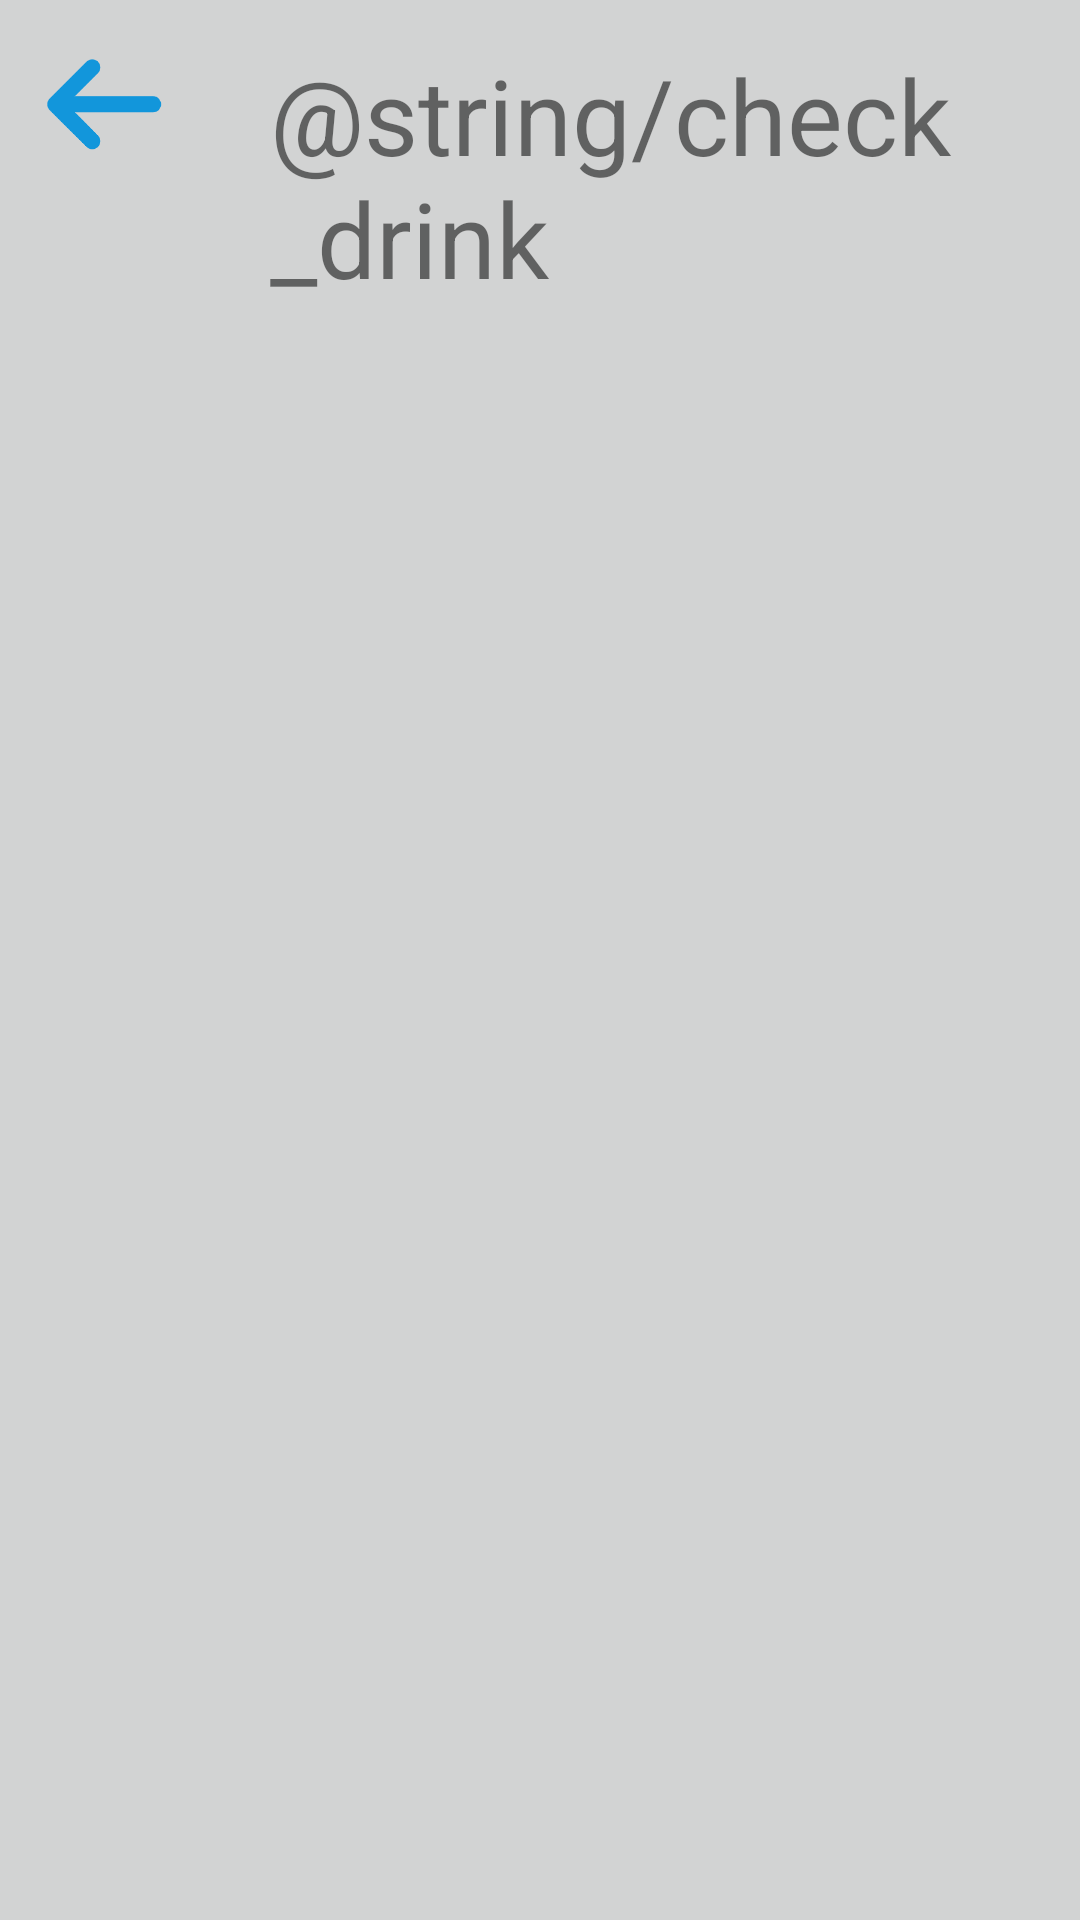

Icons on this 1080px×1920px Android screen, each with its box as (x1, y1, x2, y2):
back: (47, 59, 162, 150)
